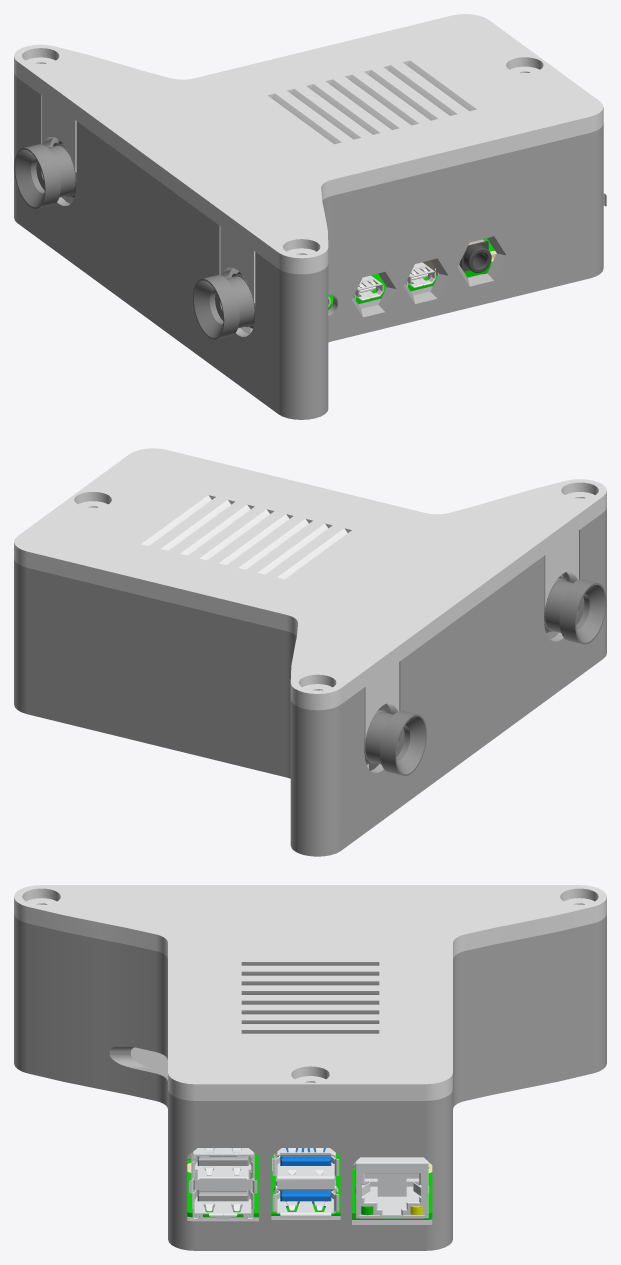
The model's file is roboeye-v1.glb.
The picture shows the model from 3 angles, top to bottom: view 1: azimuth 30°, elevation 25°; view 2: azimuth 150°, elevation 25°; view 3: azimuth 270°, elevation 25°; orthographic projection. The views are drawn at different scales.
Visible parts, largest first — view 1: upper_enclosure-1, lower_enclosure-1, b0264.step-3, Microphone Plug, RPi4ModelB-1, PCB, RPi4ModelB-1; view 2: lower_enclosure-1, upper_enclosure-1, b0264.step-3; view 3: upper_enclosure-1, lower_enclosure-1, Gigabit Ethernet Port, RPi4ModelB-1, 2X USB2.0 PORTS, RPi4ModelB-1, 2X USB3.0 PORTS, RPi4ModelB-2, PCB, RPi4ModelB-1.
Part boxes in pixels (<box>): upper_enclosure-1: <box>14,14,603,302</box>; lower_enclosure-1: <box>14,73,603,419</box>; b0264.step-3: <box>14,141,255,339</box>; Microphone Plug, RPi4ModelB-1: <box>459,239,491,272</box>; PCB, RPi4ModelB-1: <box>328,238,496,309</box>; lower_enclosure-1: <box>14,507,606,856</box>; upper_enclosure-1: <box>14,448,606,739</box>; b0264.step-3: <box>364,576,606,775</box>; upper_enclosure-1: <box>14,885,606,1100</box>; lower_enclosure-1: <box>14,914,606,1250</box>; Gigabit Ethernet Port, RPi4ModelB-1: <box>355,1157,429,1218</box>; 2X USB2.0 PORTS, RPi4ModelB-1: <box>189,1148,257,1219</box>; 2X USB3.0 PORTS, RPi4ModelB-2: <box>272,1148,339,1217</box>; PCB, RPi4ModelB-1: <box>187,1153,432,1219</box>.
Bounding box in the file's own units: 0.111 × 0.04 × 0.129.
